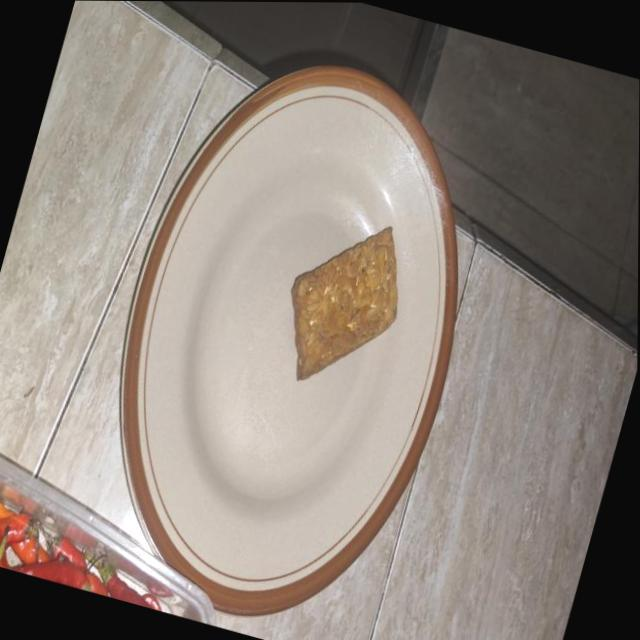tempe_goreng: (291, 227, 397, 379)
